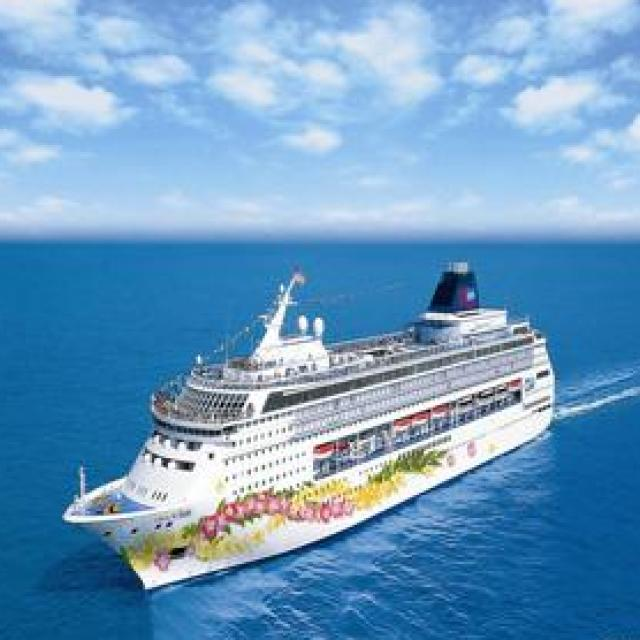passenger ship: (53, 251, 555, 616)
